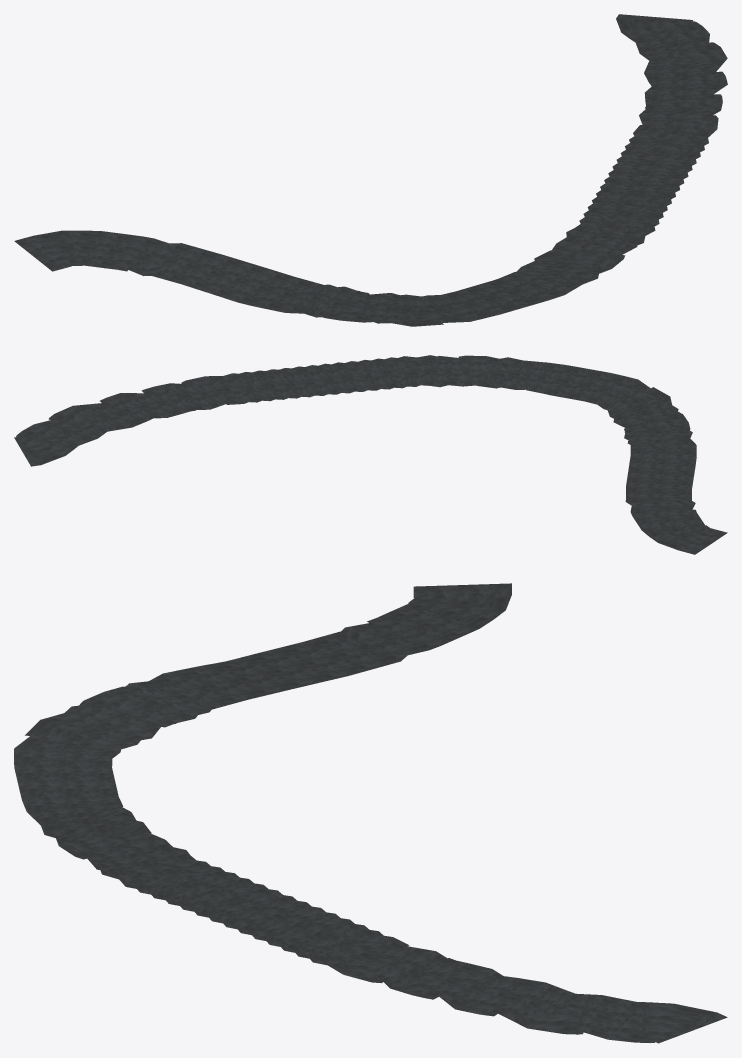
The model's file is RD-ROAD-005.obj.
The picture shows the model from 3 angles, top to bottom: view 1: azimuth 30°, elevation 25°; view 2: azimuth 150°, elevation 25°; view 3: azimuth 270°, elevation 25°; orthographic projection. The views are drawn at different scales.
Visible parts, largest first — view 1: RD-ROAD-005; view 2: RD-ROAD-005; view 3: RD-ROAD-005.
Boxes of the visible parts, x1=… form: RD-ROAD-005: x1=14, y1=14, x2=727, y2=326; RD-ROAD-005: x1=14, y1=355, x2=727, y2=554; RD-ROAD-005: x1=14, y1=583, x2=727, y2=1043.
Size of the model in its own units: 88.38 by 1.27 by 58.1.
1 material, 1 textured.
